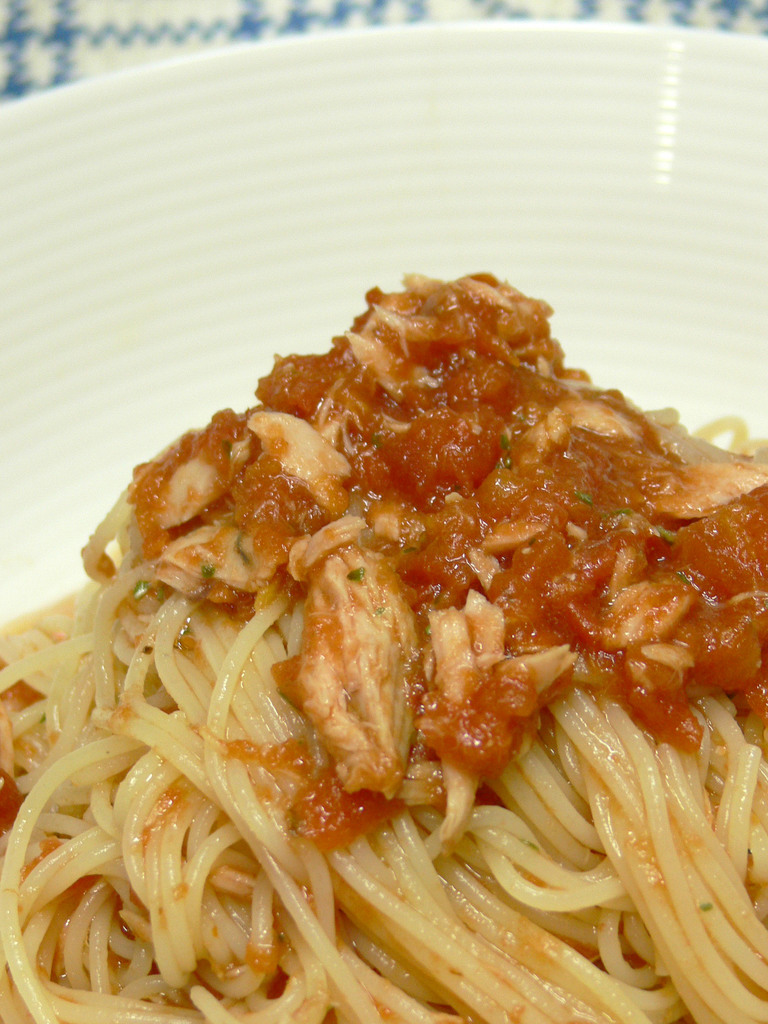pasta: (0, 456, 755, 968)
